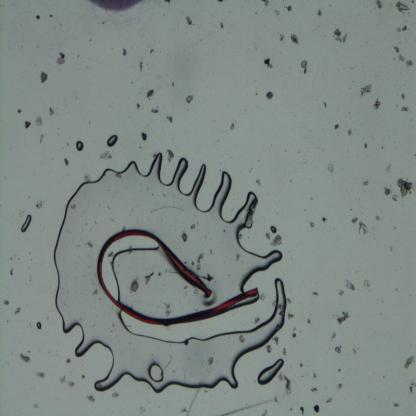Air bubble: (49, 153, 299, 395), (100, 233, 158, 300), (256, 356, 284, 387), (88, 0, 142, 11), (146, 358, 166, 386), (16, 211, 34, 234), (106, 133, 117, 146), (75, 140, 84, 152), (271, 224, 276, 234), (36, 321, 42, 329)
Background material: (396, 177, 414, 200), (392, 44, 407, 62), (404, 352, 416, 372), (334, 28, 350, 43), (394, 1, 410, 16), (358, 84, 374, 98), (55, 50, 67, 68), (284, 375, 294, 395), (357, 219, 368, 237), (129, 278, 141, 294), (336, 310, 350, 323), (196, 252, 205, 272), (202, 271, 215, 284), (372, 97, 383, 112), (99, 149, 112, 161), (19, 351, 31, 364), (268, 235, 282, 246), (34, 114, 44, 128), (290, 32, 300, 46), (344, 278, 354, 292), (164, 148, 174, 162), (254, 173, 263, 188), (184, 13, 193, 28), (300, 59, 309, 74), (35, 369, 46, 381), (38, 70, 48, 83), (164, 302, 172, 318), (233, 250, 242, 264), (383, 186, 393, 198), (265, 58, 275, 70), (375, 0, 385, 12), (34, 198, 44, 210), (146, 271, 154, 285), (22, 119, 32, 130), (264, 343, 274, 354), (145, 88, 154, 100), (407, 381, 416, 393), (264, 90, 274, 100), (326, 163, 335, 174), (83, 240, 94, 249), (298, 404, 306, 416), (62, 156, 70, 168), (259, 290, 266, 303), (281, 345, 288, 358), (86, 394, 96, 403), (13, 306, 22, 316), (400, 105, 410, 114), (361, 177, 370, 187), (261, 0, 272, 8), (396, 24, 407, 32), (207, 356, 214, 368), (141, 130, 147, 144), (405, 58, 414, 67), (316, 8, 324, 18), (149, 107, 159, 115), (68, 380, 76, 390), (312, 287, 319, 298), (240, 334, 247, 345), (335, 343, 342, 354), (364, 278, 370, 290), (306, 314, 312, 326), (325, 396, 334, 404), (278, 33, 286, 42), (330, 331, 336, 343), (186, 94, 193, 104), (310, 386, 317, 396), (272, 336, 279, 346), (254, 314, 260, 325), (308, 220, 316, 228), (286, 311, 294, 319), (49, 106, 55, 116), (338, 288, 344, 298), (321, 216, 329, 223), (393, 401, 400, 409), (166, 116, 174, 123), (16, 107, 23, 115), (230, 121, 235, 132), (352, 216, 358, 225), (219, 21, 225, 30), (337, 381, 343, 390), (314, 404, 320, 413), (332, 124, 342, 129), (292, 331, 298, 339), (392, 193, 398, 201), (286, 4, 292, 12), (139, 62, 143, 74), (347, 128, 353, 136), (181, 234, 186, 243), (363, 141, 368, 150), (401, 92, 405, 101), (375, 215, 380, 222)
Microfibre: (96, 226, 260, 327)
